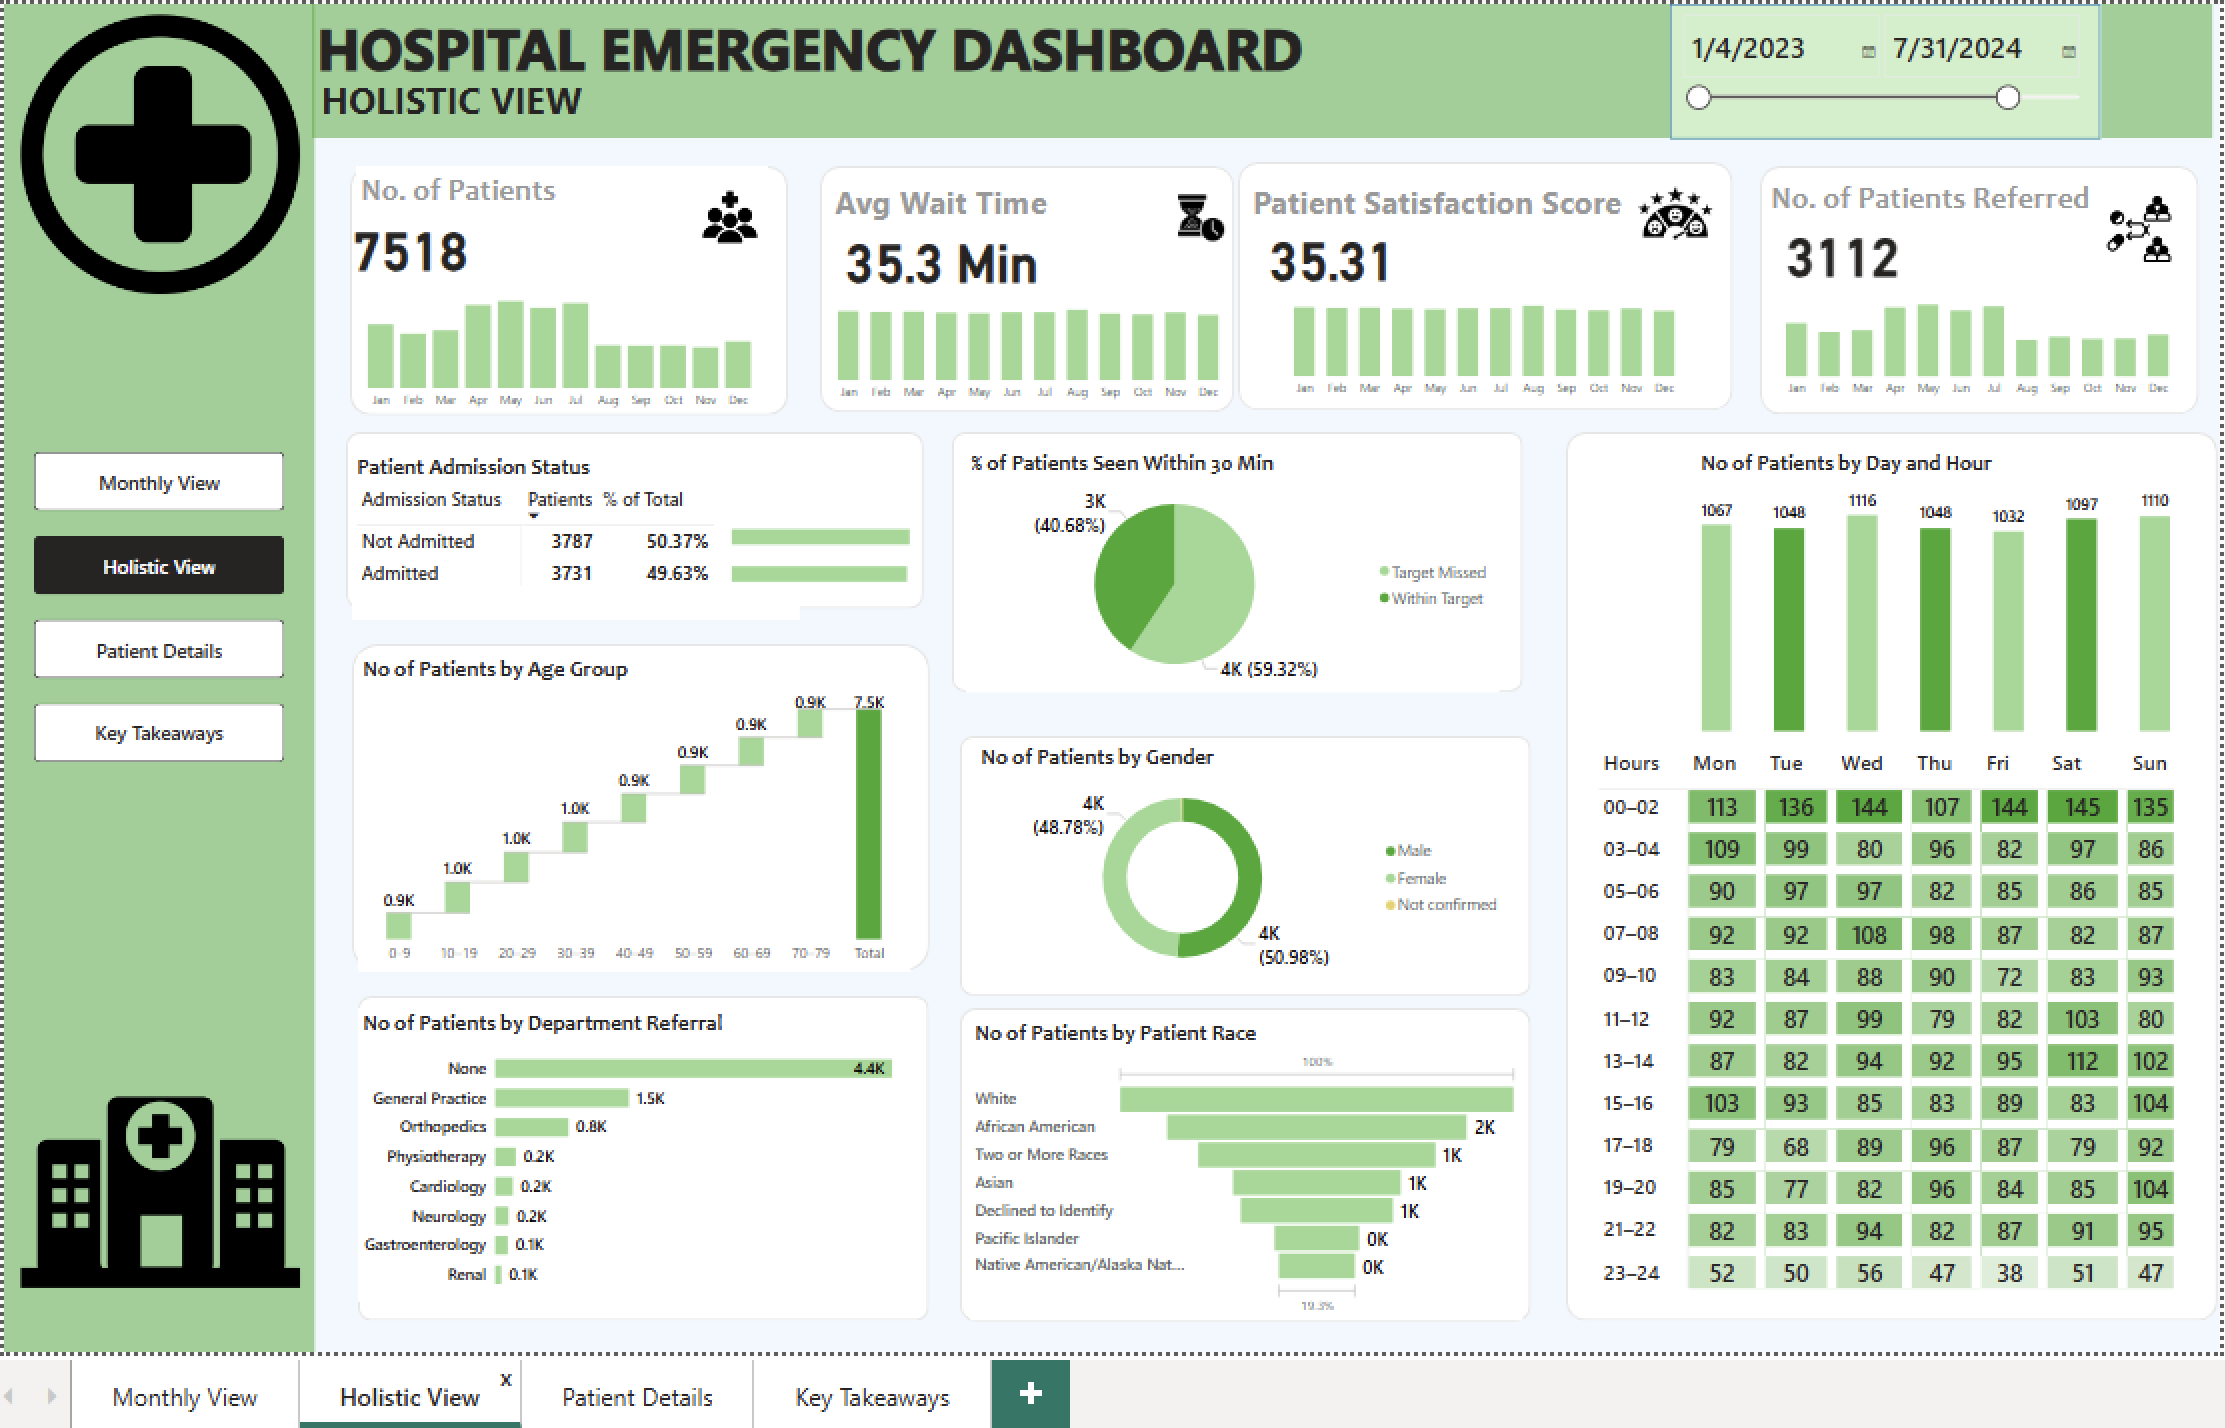

This screenshot's page, from the dashboard's own definition file:
{"tool":"powerbi","page":{"name":"Consolidated  View","canvas":[2300,1400],"ordinal":1},"visuals":[{"type":"shape","box":[359.7,167.2,455,258.9],"z":0},{"type":"shape","box":[0,0,323.3,1400],"z":1000},{"type":"shape","box":[323.3,0,1976.7,139.5],"z":2000},{"type":"textbox","box":[320.7,0,1280.6,103.1],"z":3000},{"type":"textbox","box":[323.3,69.8,388.4,69.8],"z":4000},{"type":"card","fields":{"Values":["Hospital ER_Data.No of Patients"]},"box":[323,176.4,194.7,146.6],"z":5000},{"type":"slicer","fields":{"Values":["Date Table.Date"]},"box":[1729.6,0,446.7,139.7],"z":7000},{"type":"textbox","box":[366.5,167.2,428.4,57.3],"z":8000},{"type":"columnChart","fields":{"Y":["Hospital ER_Data.No of Patients"],"Category":["Date Table.Month Name"]},"box":[359.7,284.1,435.3,144.3],"z":9000},{"type":"shape","box":[983.7,444.2,593,269.8],"z":11000},{"type":"shape","box":[846.5,167.4,430.2,255.8],"z":12000},{"type":"columnChart","fields":{"Y":["Avg(Hospital ER_Data.Patient Waittime)"],"Category":["Date Table.Month Name"]},"box":[847.6,297.8,433,123.7],"z":13000},{"type":"shape","box":[1281.4,165.1,514,258.1],"z":14000},{"type":"textbox","box":[1293,179.1,407,53.5],"z":15000},{"type":"columnChart","fields":{"Y":["Hospital ER_Data.Satisfaction Score"],"Category":["Date Table.Month Name"]},"box":[1321.8,293.2,433,123.7],"z":16000},{"type":"shape","box":[1823.3,167.4,455.8,258.1],"z":17000},{"type":"textbox","box":[1830.2,176.7,427.9,55.8],"z":18000},{"type":"columnChart","fields":{"Y":["Hospital ER_Data.No of Patient Referred"],"Category":["Date Table.Month Name"]},"box":[1832.7,290.9,435.3,126],"z":19000},{"type":"card","fields":{"Values":["Hospital ER_Data.Avg Wait Time"]},"box":[858.1,209.3,232.6,107],"z":20000},{"type":"card","fields":{"Values":["Hospital ER_Data.Satisfaction Score"]},"box":[1281.4,214,195.3,93],"z":21000},{"type":"shape","box":[367.4,1030.2,593,337.2],"z":22000},{"type":"card","fields":{"Values":["Hospital ER_Data.No of Patient Referred"]},"box":[1823.3,193,172.1,125.6],"z":23000},{"type":"shape","box":[355.8,444.2,600,183.7],"z":24000},{"type":"pivotTable","title":"Patient Admission Status","fields":{"Rows":["Hospital ER_Data.Admission Status"],"Values":["Hospital ER_Data.No of Patients1","Hospital ER_Data.No of Patients"]},"box":[360.5,465.1,465.1,174.4],"z":25000},{"type":"barChart","fields":{"Category":["Hospital ER_Data.Admission Status"],"Y":["Hospital ER_Data.No of Patients"]},"box":[748.8,514,248.8,114],"z":26000},{"type":"shape","box":[360.5,665.1,600,339.5],"z":27000},{"type":"clusteredColumnChart","fields":{"Category":["Hospital ER_Data.Age Group"],"Y":["Hospital ER_Data.No of Patients"]},"box":[367.4,674.4,574.4,330.2],"z":28000},{"type":"clusteredBarChart","fields":{"Category":["Hospital ER_Data.Department Referral"],"Y":["Hospital ER_Data.No of Patients"]},"box":[367.4,1041.9,588.4,304.7],"z":29000},{"type":"donutChart","title":"% of Patients Seen  Within  30 Min","fields":{"Category":["Hospital ER_Data.Waitime Status"],"Y":["Hospital ER_Data.No of Patients"]},"box":[997.7,476.7,555.8,237.2],"z":30000},{"type":"shape","box":[993,1041.9,593,325.6],"z":31000},{"type":"shape","box":[993,760.5,593,269.8],"z":32000},{"type":"donutChart","title":"No of Patients by Gender","fields":{"Y":["Hospital ER_Data.No of Patients"],"Category":["Hospital ER_Data.Patient Gender"]},"box":[1009.3,767.4,555.8,253.5],"z":33000},{"type":"clusteredBarChart","fields":{"Y":["Hospital ER_Data.No of Patients"],"Category":["Hospital ER_Data.Patient Race"]},"box":[1002.3,1053.5,574.4,314],"z":34000},{"type":"shape","box":[1623.3,444.2,676.7,923.3],"z":35000},{"type":"pivotTable","fields":{"Rows":["Hospital ER_Data.Waittime Interval"],"Columns":["Date Table.Day Name"],"Values":["Hospital ER_Data.No of Patients"]},"box":[1658.1,767.4,620.9,586],"z":36000},{"type":"columnChart","title":"No of Patients by Day and Hour","fields":{"Category":["Date Table.Day Name"],"Y":["Hospital ER_Data.No of Patients"]},"box":[1758.1,460.5,500,300],"z":37000},{"type":"image","box":[711.6,181.4,83.7,81.4],"z":38000},{"type":"image","box":[1195.3,193,97.7,58.1],"z":39000},{"type":"image","box":[1683.7,169.8,102.3,93],"z":40000},{"type":"image","box":[2176.7,188.4,81.4,88.4],"z":41000},{"type":"textbox","box":[858.1,179.1,293,48.8],"z":42000},{"type":"image","box":[0,23.3,300,300],"z":43000},{"type":"image","box":[11.6,1083.7,300,300],"z":44000}]}

Visuals, with their boxes on the page's 2300x1400 design canvas (x1, y1, x2, y2). These are canvas units, not pixel positions in the 2225x1428 screenshot, which may show the page scaled, cropped or inside an application window:
shape: BBox(360, 167, 815, 426)
shape: BBox(0, 0, 323, 1400)
shape: BBox(323, 0, 2300, 140)
textbox: BBox(321, 0, 1601, 103)
textbox: BBox(323, 70, 712, 140)
card - Hospital ER_Data.No of Patients: BBox(323, 176, 518, 323)
slicer - Date Table.Date: BBox(1730, 0, 2176, 140)
textbox: BBox(366, 167, 795, 224)
columnChart - Hospital ER_Data.No of Patients x Date Table.Month Name: BBox(360, 284, 795, 428)
shape: BBox(984, 444, 1577, 714)
shape: BBox(846, 167, 1277, 423)
columnChart - Avg(Hospital ER_Data.Patient Waittime) x Date Table.Month Name: BBox(848, 298, 1281, 422)
shape: BBox(1281, 165, 1795, 423)
textbox: BBox(1293, 179, 1700, 233)
columnChart - Hospital ER_Data.Satisfaction Score x Date Table.Month Name: BBox(1322, 293, 1755, 417)
shape: BBox(1823, 167, 2279, 426)
textbox: BBox(1830, 177, 2258, 232)
columnChart - Hospital ER_Data.No of Patient Referred x Date Table.Month Name: BBox(1833, 291, 2268, 417)
card - Hospital ER_Data.Avg Wait Time: BBox(858, 209, 1091, 316)
card - Hospital ER_Data.Satisfaction Score: BBox(1281, 214, 1477, 307)
shape: BBox(367, 1030, 960, 1367)
card - Hospital ER_Data.No of Patient Referred: BBox(1823, 193, 1995, 319)
shape: BBox(356, 444, 956, 628)
"Patient Admission Status" pivotTable: BBox(360, 465, 826, 640)
barChart - Hospital ER_Data.Admission Status x Hospital ER_Data.No of Patients: BBox(749, 514, 998, 628)
shape: BBox(360, 665, 960, 1005)
clusteredColumnChart - Hospital ER_Data.Age Group x Hospital ER_Data.No of Patients: BBox(367, 674, 942, 1005)
clusteredBarChart - Hospital ER_Data.Department Referral x Hospital ER_Data.No of Patients: BBox(367, 1042, 956, 1347)
"% of Patients Seen  Within  30 Min" donutChart: BBox(998, 477, 1554, 714)
shape: BBox(993, 1042, 1586, 1368)
shape: BBox(993, 760, 1586, 1030)
"No of Patients by Gender" donutChart: BBox(1009, 767, 1565, 1021)
clusteredBarChart - Hospital ER_Data.No of Patients x Hospital ER_Data.Patient Race: BBox(1002, 1054, 1577, 1368)
shape: BBox(1623, 444, 2300, 1368)
pivotTable - Hospital ER_Data.Waittime Interval x Date Table.Day Name: BBox(1658, 767, 2279, 1353)
"No of Patients by Day and Hour" columnChart: BBox(1758, 460, 2258, 760)
image: BBox(712, 181, 795, 263)
image: BBox(1195, 193, 1293, 251)
image: BBox(1684, 170, 1786, 263)
image: BBox(2177, 188, 2258, 277)
textbox: BBox(858, 179, 1151, 228)
image: BBox(0, 23, 300, 323)
image: BBox(12, 1084, 312, 1384)
